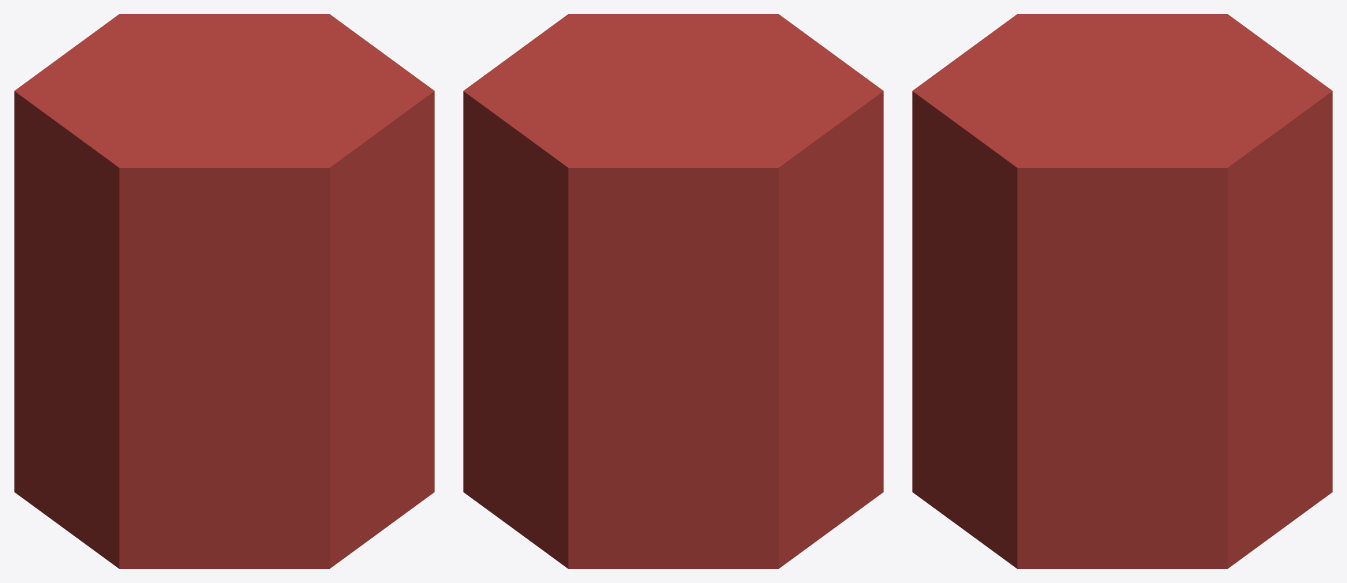
File: pod_lod2.glb
3 renders of one model, left to right at view 1: azimuth 30°, elevation 25°; view 2: azimuth 150°, elevation 25°; view 3: azimuth 270°, elevation 25°, orthographic.
Parts seen in each view (by area): view 1: pod_lod2; view 2: pod_lod2; view 3: pod_lod2.
Part boxes in pixels (x1,y1,x2,y2): pod_lod2: (14,14,434,568); pod_lod2: (463,14,883,568); pod_lod2: (912,14,1332,568).
Bounding box in the file's own units: 0.0658 × 0.08 × 0.076.
